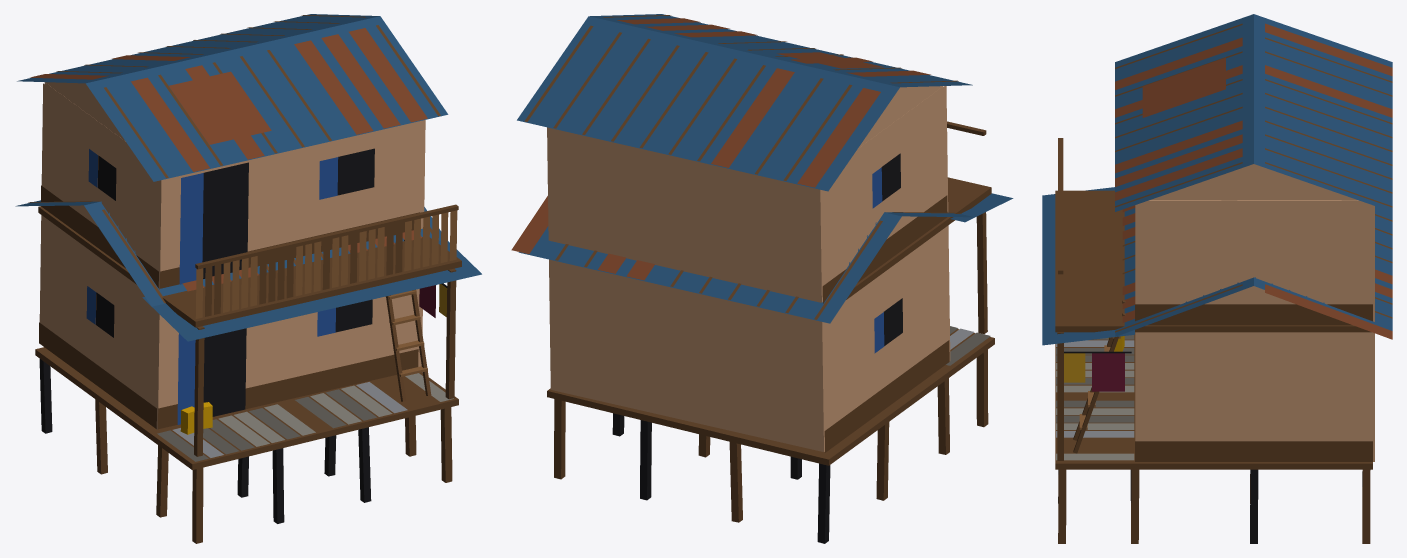
Rendered from building_makoko-house_d.88e63685ce2f.glb.
3 renders of one model, left to right at view 1: azimuth 30°, elevation 25°; view 2: azimuth 150°, elevation 25°; view 3: azimuth 270°, elevation 25°, orthographic. The views are drawn at different scales.
Parts seen in each view (by area): view 1: body; view 2: body; view 3: body.
Part boxes in pixels (x1,y1,x2,y2): body: (15,14,481,543); body: (511,14,1013,543); body: (1042,14,1392,543).
Size of the model in its own units: 5.33 by 6.63 by 5.3.
